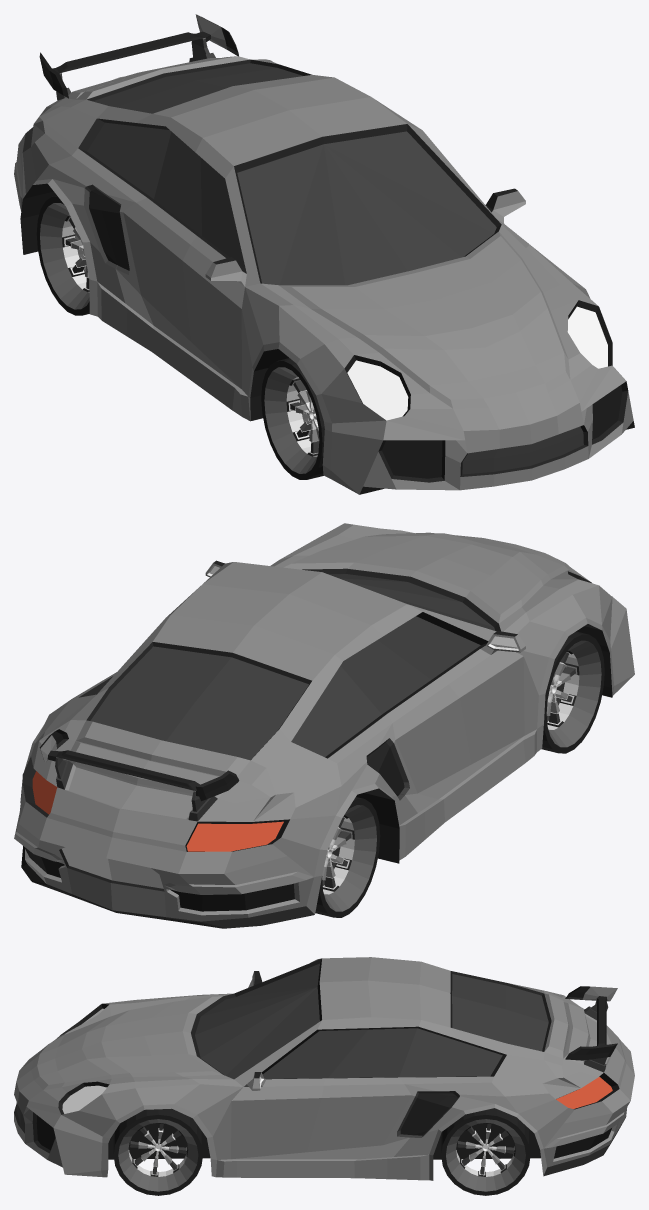
The model's file is porsche911gt2(997).fbx.
3 renders of one model, top to bottom at view 1: azimuth 30°, elevation 25°; view 2: azimuth 150°, elevation 25°; view 3: azimuth 270°, elevation 25°, orthographic. The views are drawn at different scales.
Parts seen in each view (by area): view 1: GrayBody, FrontRight, BackRight; view 2: GrayBody, FrontRight, BackRight; view 3: GrayBody, FrontLeft, BackLeft.
Part boxes in pixels (<box>): GrayBody: <box>14,14,634,494</box>; FrontRight: <box>261,358,324,479</box>; BackRight: <box>36,195,89,315</box>; GrayBody: <box>14,523,634,928</box>; FrontRight: <box>541,631,604,753</box>; BackRight: <box>315,797,380,917</box>; GrayBody: <box>14,957,634,1180</box>; FrontLeft: <box>113,1108,202,1195</box>; BackLeft: <box>441,1108,530,1195</box>.
Bounding box in the file's own units: 1.9 × 4.44 × 1.3.
